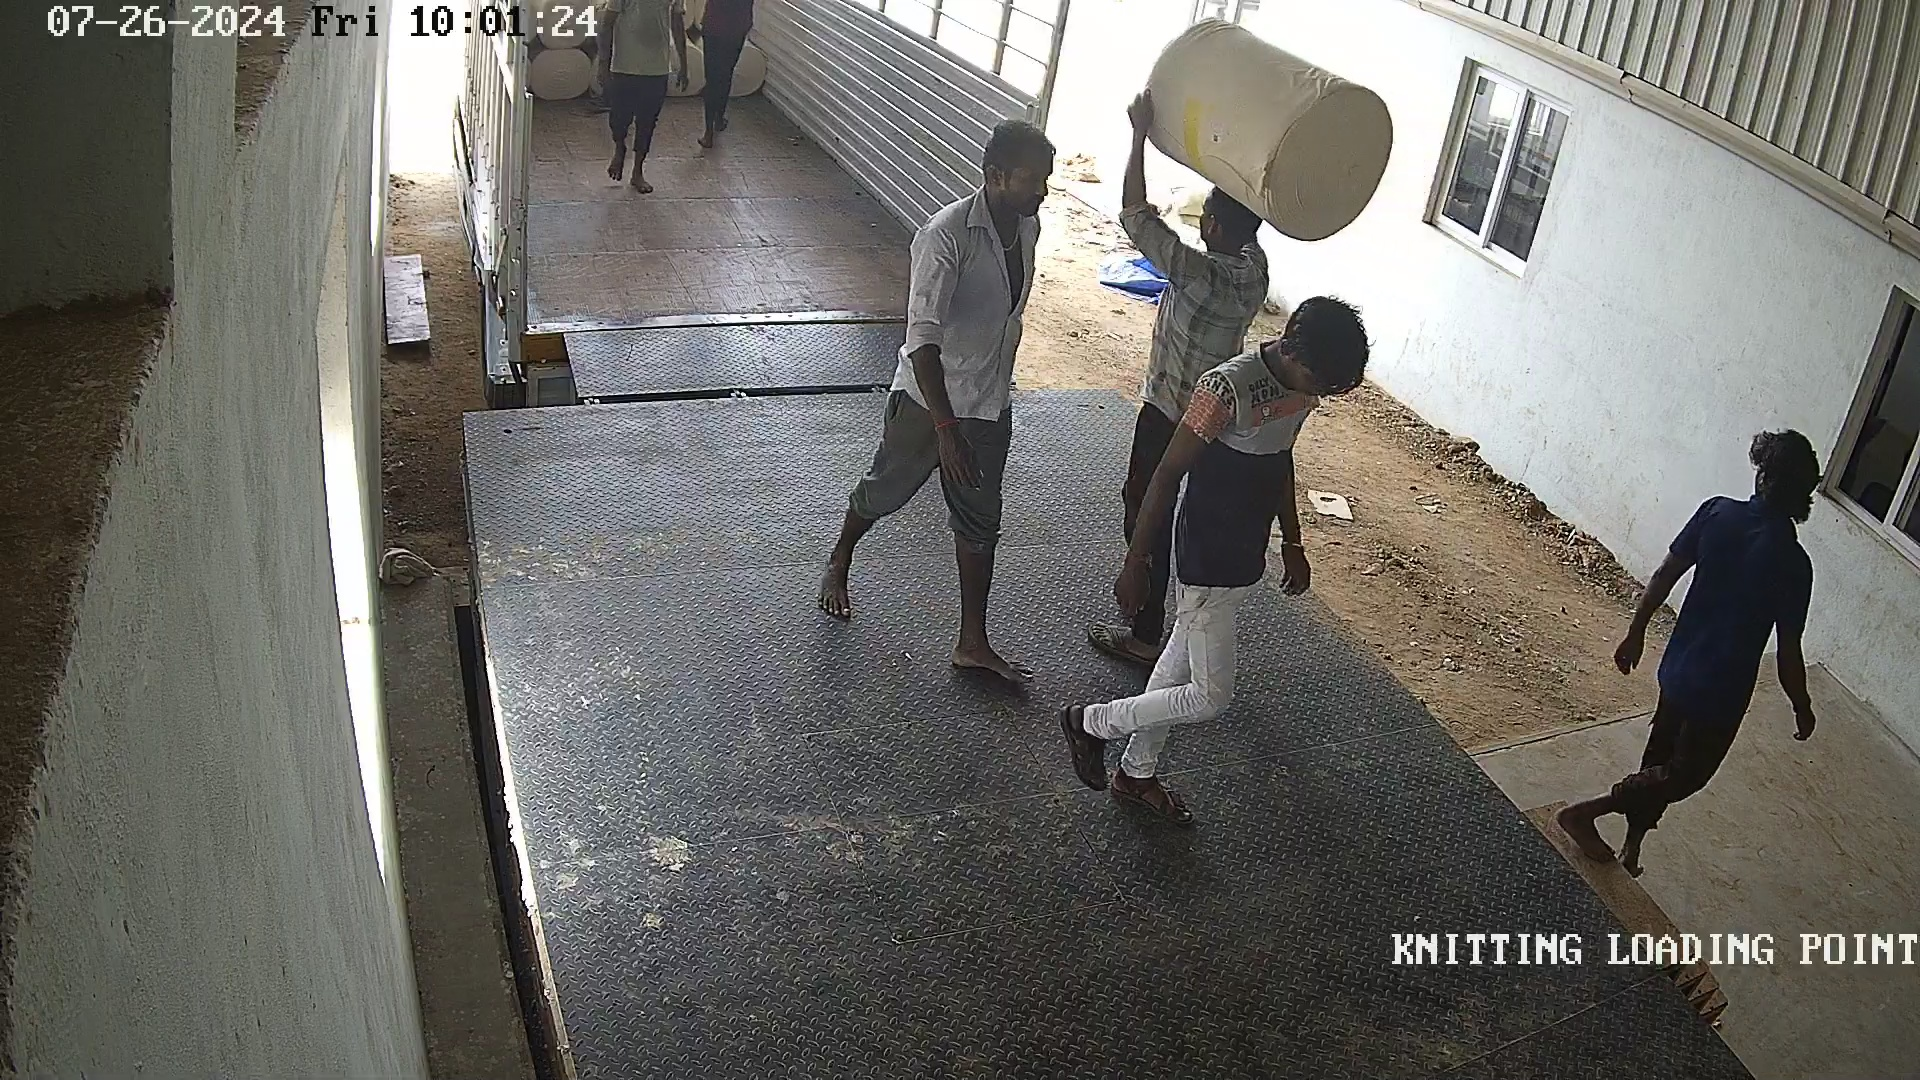bag: (1131, 11, 1400, 247)
